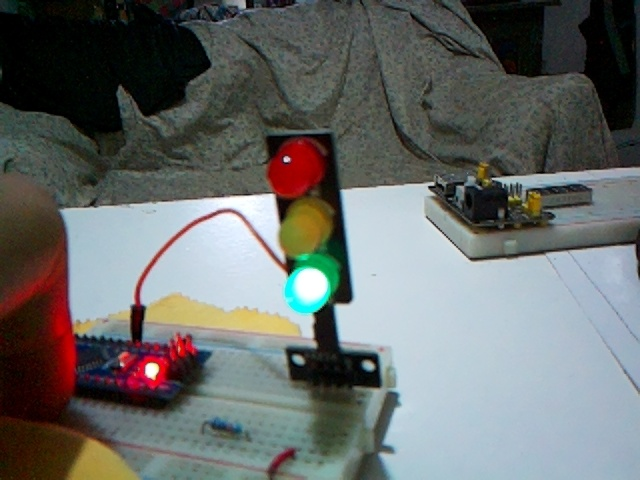traffic_light_green: (268, 131, 352, 313)
